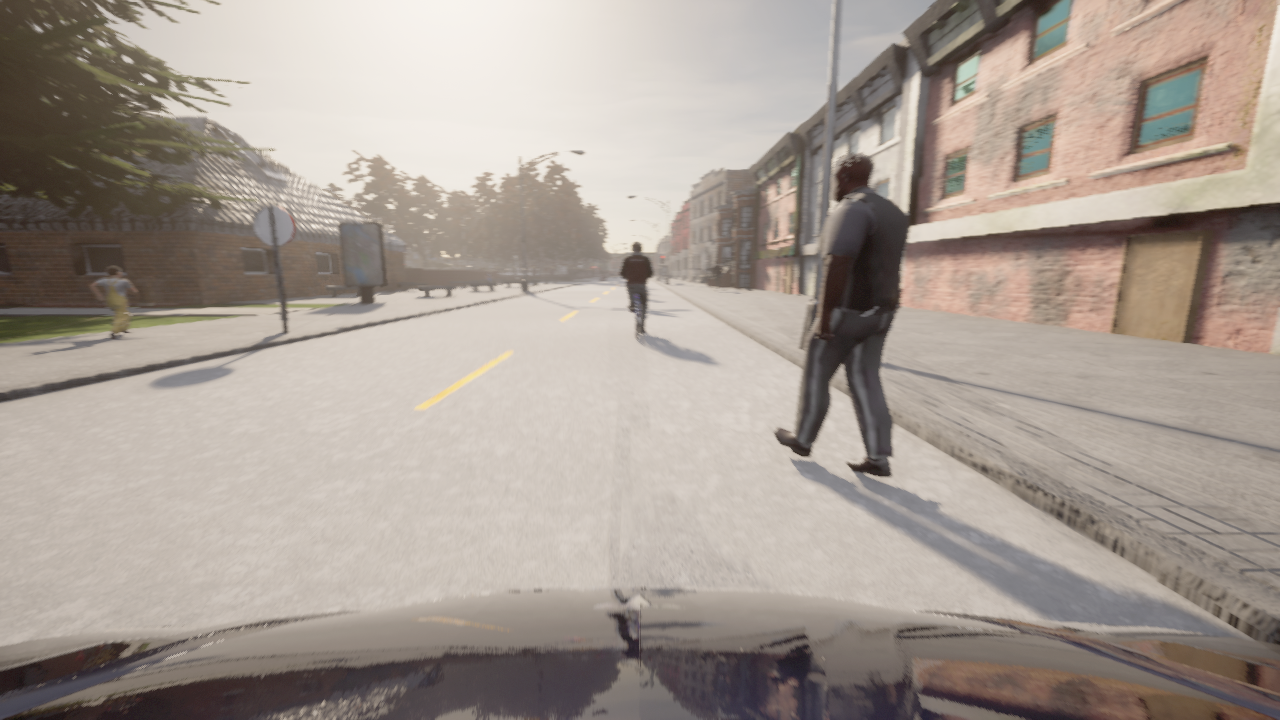cyclist: (0, 588, 1279, 719), (630, 294, 645, 338), (599, 275, 607, 281)
pedestrian: (773, 151, 909, 477), (91, 266, 136, 339), (712, 261, 722, 290), (486, 271, 492, 282)
